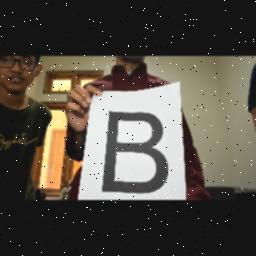b: (98, 108, 170, 198)
